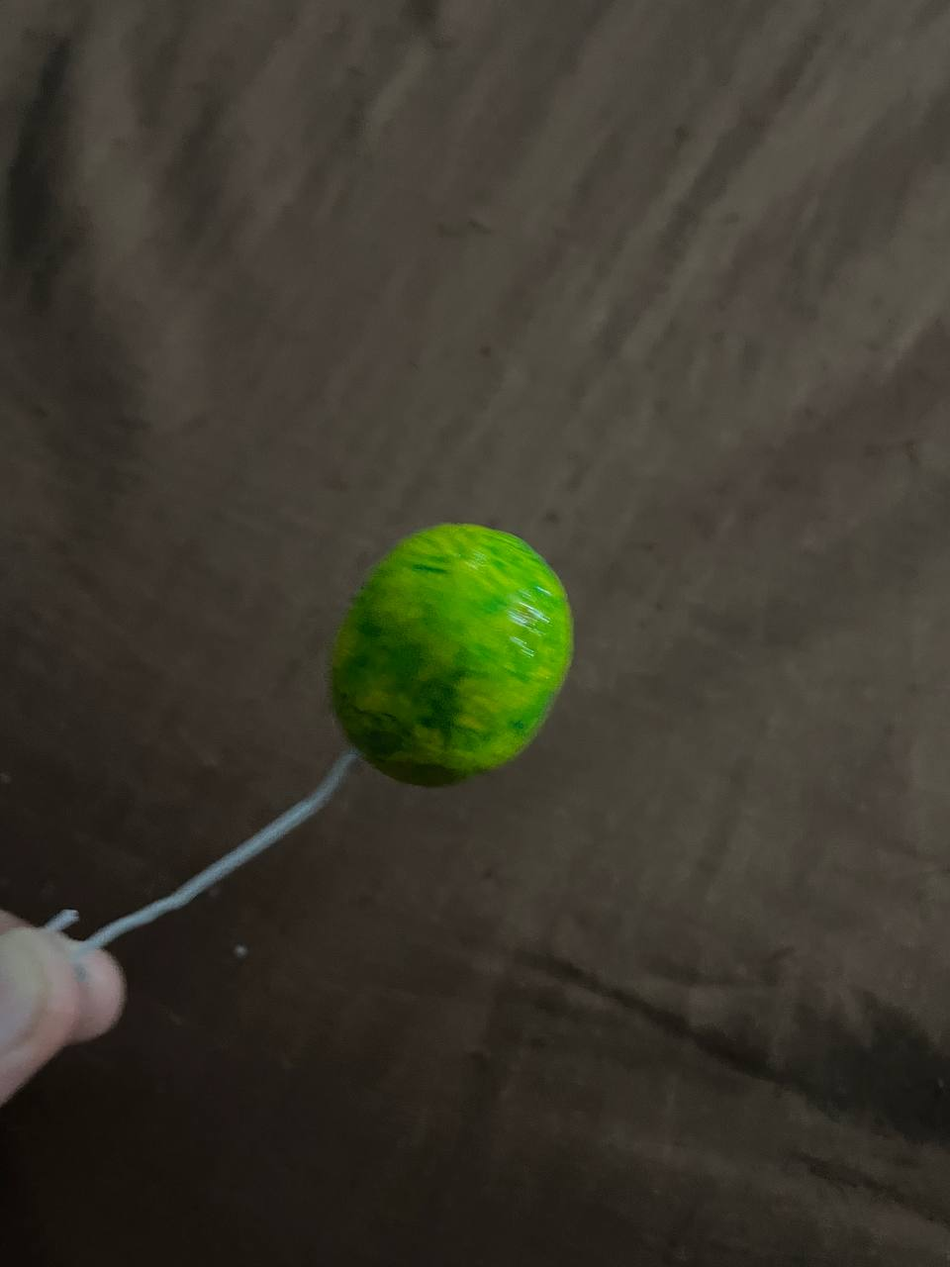lime_unripe: (326, 521, 575, 786)
